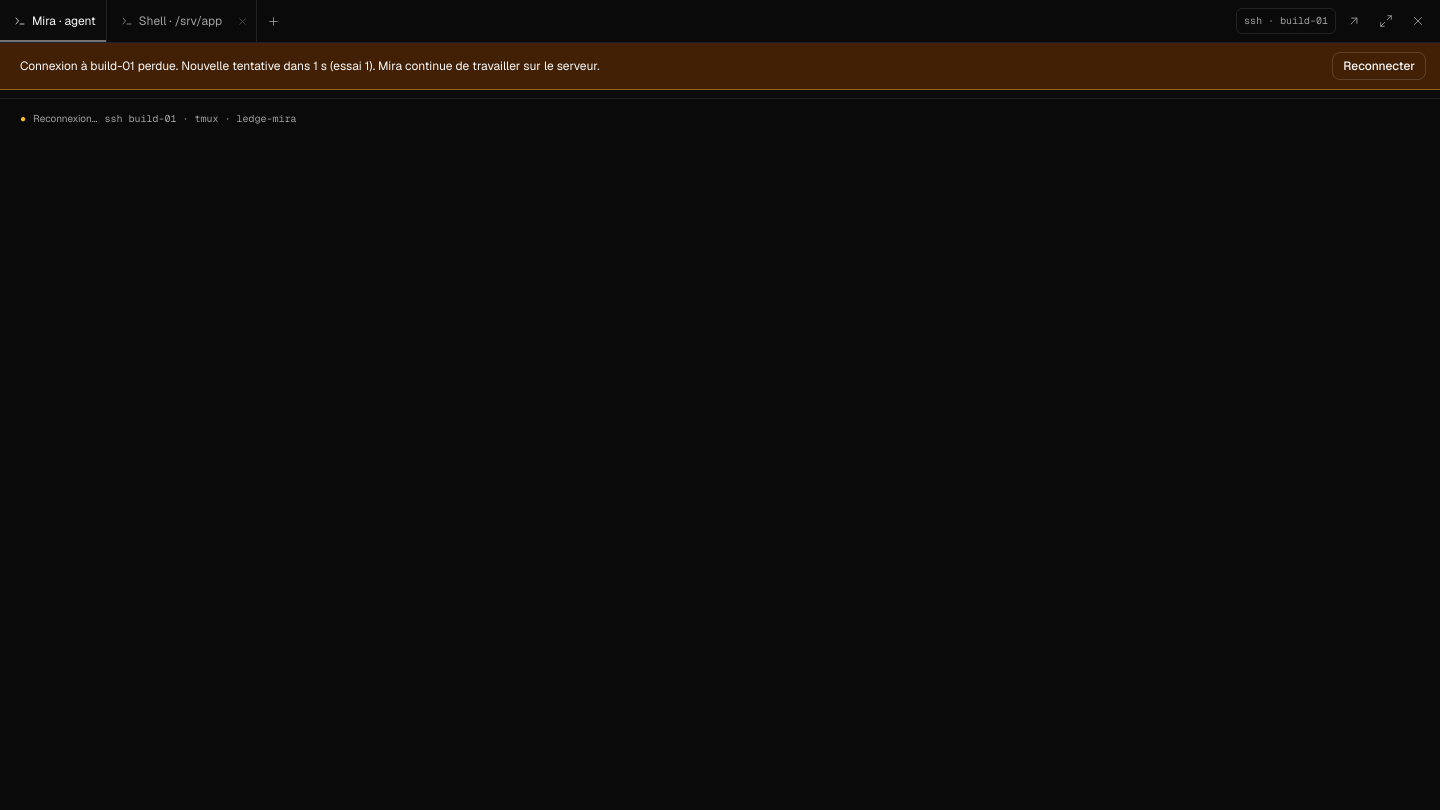
a lost connection shows the countdown and « Reconnecter » retries now
expect the text "Connexion à build-01 perdue. Nouvelle tentative dans 1 s (essai 1). Mira continue de travailler sur le serveur." is shown: met, box [20,58,600,74]
expect the text "Reconnexion…" is shown: met, box [33,109,97,129]
Click the button "Reconnecter".
click(1379, 66)  # box [1332,52,1426,80]
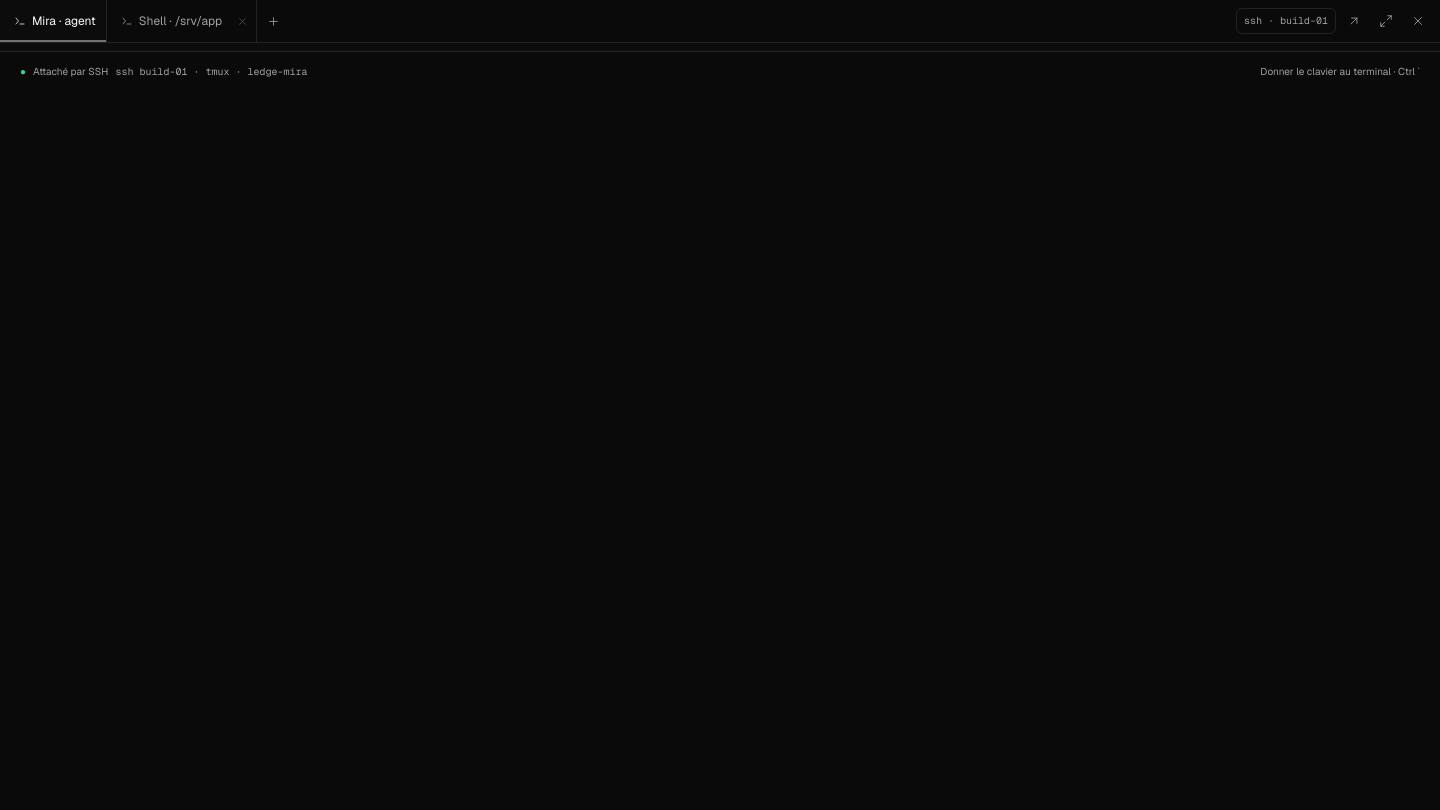
expect the button "Reconnecter" is gone: met
expect the text "Attaché par SSH" is shown: met, box [33,62,108,82]
